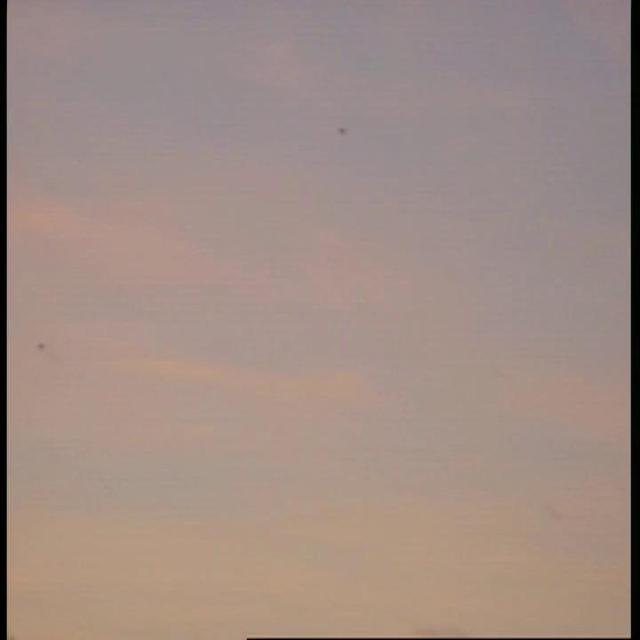drone: (32, 336, 52, 356), (333, 120, 351, 142)
